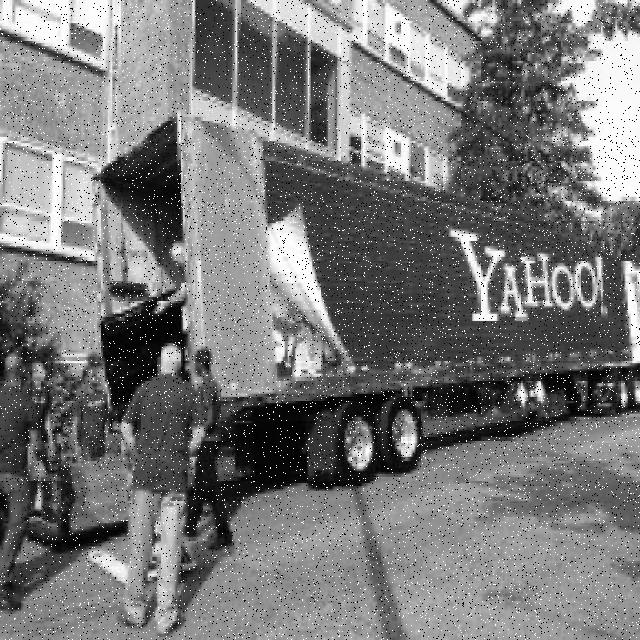Box Truck: (93, 119, 640, 489)
